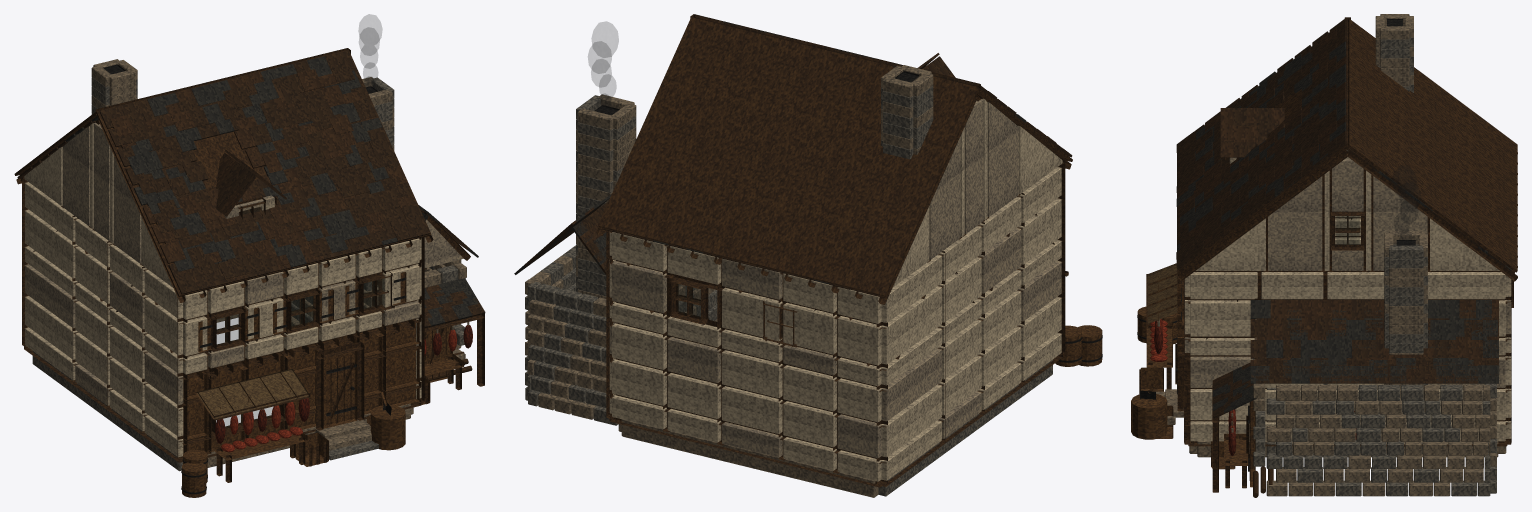
Rendered from medieval_butcher_house_3d_runtime.glb.
The picture shows the model from 3 angles, left to right: view 1: azimuth 30°, elevation 25°; view 2: azimuth 150°, elevation 25°; view 3: azimuth 270°, elevation 25°; orthographic projection. The views are drawn at different scales.
Parts seen in each view (by area): view 1: RUNTIME_BATCH_029_MAT_BUTCHER_SHINGLE_A, RUNTIME_BATCH_031_MAT_BUTCHER_SHINGLE_B, RUNTIME_BATCH_030_MAT_BUTCHER_SHINGLE_C, RUNTIME_BATCH_023_MAT_BUTCHER_PLASTER_AGED, RUNTIME_BATCH_019_MAT_BUTCHER_PLASTER_AGED, RUNTIME_BATCH_021_MAT_BUTCHER_PLASTER_AGED, RUNTIME_BATCH_018_MAT_BUTCHER_OAK_MID, RUNTIME_BATCH_011_MAT_BUTCHER_PLASTER_WORN, RUNTIME_BATCH_002_MAT_BUTCHER_OAK_DARK, RUNTIME_BATCH_009_MAT_BUTCHER_OAK_DARK, RUNTIME_BATCH_022_MAT_BUTCHER_PLASTER_WORN, RUNTIME_BATCH_006_MAT_BUTCHER_OAK_DARK (+23 smaller); view 2: RUNTIME_BATCH_009_MAT_BUTCHER_OAK_DARK, RUNTIME_BATCH_021_MAT_BUTCHER_PLASTER_AGED, RUNTIME_BATCH_023_MAT_BUTCHER_PLASTER_AGED, RUNTIME_BATCH_000_MAT_BUTCHER_STONE_WARM, RUNTIME_BATCH_022_MAT_BUTCHER_PLASTER_WORN, RUNTIME_BATCH_001_MAT_BUTCHER_STONE_DARK, RUNTIME_BATCH_003_MAT_BUTCHER_OAK_DARK, RUNTIME_BATCH_011_MAT_BUTCHER_PLASTER_WORN, RUNTIME_BATCH_024_MAT_BUTCHER_PLASTER_WORN, RUNTIME_BATCH_016_MAT_BUTCHER_STONE_WARM, RUNTIME_BATCH_012_MAT_BUTCHER_PLASTER_AGED, RUNTIME_BATCH_015_MAT_BUTCHER_STONE_DARK (+10 smaller); view 3: RUNTIME_BATCH_009_MAT_BUTCHER_OAK_DARK, RUNTIME_BATCH_000_MAT_BUTCHER_STONE_WARM, RUNTIME_BATCH_029_MAT_BUTCHER_SHINGLE_A, RUNTIME_BATCH_023_MAT_BUTCHER_PLASTER_AGED, RUNTIME_BATCH_001_MAT_BUTCHER_STONE_DARK, RUNTIME_BATCH_033_MAT_BUTCHER_SHINGLE_C, RUNTIME_BATCH_011_MAT_BUTCHER_PLASTER_WORN, RUNTIME_BATCH_035_MAT_BUTCHER_SHINGLE_B, RUNTIME_BATCH_034_MAT_BUTCHER_SHINGLE_A, RUNTIME_BATCH_031_MAT_BUTCHER_SHINGLE_B, RUNTIME_BATCH_030_MAT_BUTCHER_SHINGLE_C, RUNTIME_BATCH_012_MAT_BUTCHER_PLASTER_AGED (+17 smaller).
Part boxes in pixels (left/top/right/bottom): RUNTIME_BATCH_029_MAT_BUTCHER_SHINGLE_A: left=22, top=50, right=430, bottom=294; RUNTIME_BATCH_031_MAT_BUTCHER_SHINGLE_B: left=17, top=50, right=417, bottom=285; RUNTIME_BATCH_030_MAT_BUTCHER_SHINGLE_C: left=65, top=56, right=397, bottom=271; RUNTIME_BATCH_023_MAT_BUTCHER_PLASTER_AGED: left=25, top=182, right=421, bottom=373; RUNTIME_BATCH_019_MAT_BUTCHER_PLASTER_AGED: left=183, top=238, right=419, bottom=374; RUNTIME_BATCH_021_MAT_BUTCHER_PLASTER_AGED: left=25, top=287, right=421, bottom=457; RUNTIME_BATCH_018_MAT_BUTCHER_OAK_MID: left=183, top=319, right=419, bottom=453; RUNTIME_BATCH_011_MAT_BUTCHER_PLASTER_WORN: left=62, top=122, right=463, bottom=267; RUNTIME_BATCH_002_MAT_BUTCHER_OAK_DARK: left=178, top=237, right=424, bottom=461; RUNTIME_BATCH_009_MAT_BUTCHER_OAK_DARK: left=14, top=48, right=433, bottom=302; RUNTIME_BATCH_022_MAT_BUTCHER_PLASTER_WORN: left=25, top=264, right=421, bottom=405; RUNTIME_BATCH_006_MAT_BUTCHER_OAK_DARK: left=207, top=270, right=414, bottom=379; RUNTIME_BATCH_009_MAT_BUTCHER_OAK_DARK: left=596, top=14, right=1072, bottom=304; RUNTIME_BATCH_021_MAT_BUTCHER_PLASTER_AGED: left=609, top=290, right=1061, bottom=481; RUNTIME_BATCH_023_MAT_BUTCHER_PLASTER_AGED: left=609, top=167, right=1061, bottom=386; RUNTIME_BATCH_000_MAT_BUTCHER_STONE_WARM: left=525, top=255, right=878, bottom=497; RUNTIME_BATCH_022_MAT_BUTCHER_PLASTER_WORN: left=609, top=260, right=1061, bottom=458; RUNTIME_BATCH_001_MAT_BUTCHER_STONE_DARK: left=525, top=245, right=1052, bottom=496; RUNTIME_BATCH_003_MAT_BUTCHER_OAK_DARK: left=606, top=162, right=1064, bottom=487; RUNTIME_BATCH_011_MAT_BUTCHER_PLASTER_WORN: left=929, top=99, right=1018, bottom=259; RUNTIME_BATCH_024_MAT_BUTCHER_PLASTER_WORN: left=612, top=228, right=1021, bottom=375; RUNTIME_BATCH_016_MAT_BUTCHER_STONE_WARM: left=576, top=65, right=933, bottom=171; RUNTIME_BATCH_012_MAT_BUTCHER_PLASTER_AGED: left=892, top=98, right=1062, bottom=287; RUNTIME_BATCH_015_MAT_BUTCHER_STONE_DARK: left=576, top=85, right=933, bottom=161; RUNTIME_BATCH_009_MAT_BUTCHER_OAK_DARK: left=1178, top=17, right=1517, bottom=281; RUNTIME_BATCH_000_MAT_BUTCHER_STONE_WARM: left=1189, top=383, right=1506, bottom=496; RUNTIME_BATCH_029_MAT_BUTCHER_SHINGLE_A: left=1176, top=18, right=1514, bottom=271; RUNTIME_BATCH_023_MAT_BUTCHER_PLASTER_AGED: left=1190, top=157, right=1511, bottom=355; RUNTIME_BATCH_001_MAT_BUTCHER_STONE_DARK: left=1253, top=358, right=1496, bottom=496; RUNTIME_BATCH_033_MAT_BUTCHER_SHINGLE_C: left=1212, top=300, right=1498, bottom=413; RUNTIME_BATCH_011_MAT_BUTCHER_PLASTER_WORN: left=1229, top=150, right=1427, bottom=339; RUNTIME_BATCH_035_MAT_BUTCHER_SHINGLE_B: left=1212, top=300, right=1498, bottom=399; RUNTIME_BATCH_034_MAT_BUTCHER_SHINGLE_A: left=1212, top=300, right=1498, bottom=418; RUNTIME_BATCH_031_MAT_BUTCHER_SHINGLE_B: left=1177, top=27, right=1514, bottom=274; RUNTIME_BATCH_030_MAT_BUTCHER_SHINGLE_C: left=1176, top=41, right=1511, bottom=270; RUNTIME_BATCH_012_MAT_BUTCHER_PLASTER_AGED: left=1196, top=159, right=1499, bottom=270.
Bounding box in the file's own units: 10.87 × 9.86 × 10.28.
Materials: 15 (15 with a texture image).
